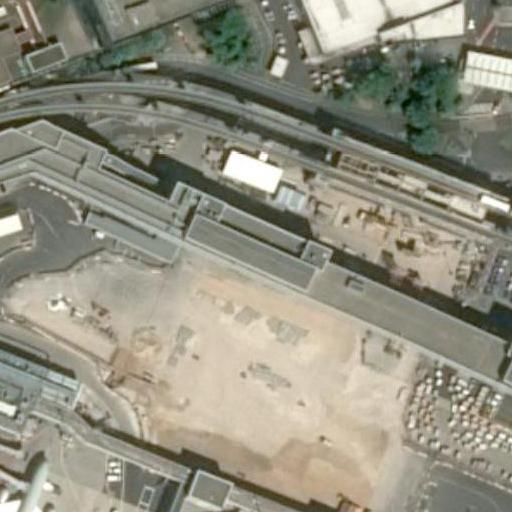Aircraft: (0, 436, 87, 512)
